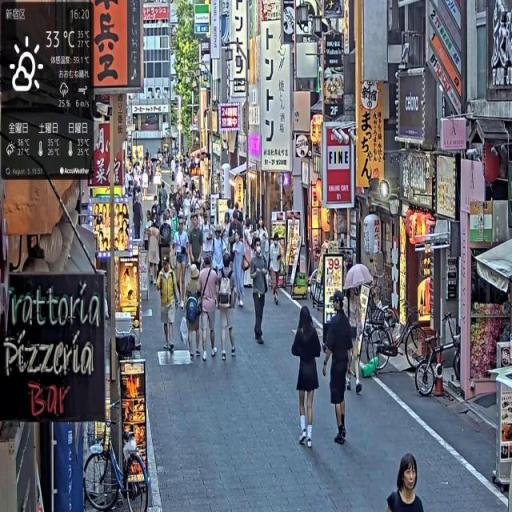person: (324, 291, 355, 447), (292, 307, 323, 450), (249, 232, 271, 350), (157, 252, 181, 360), (197, 252, 220, 364), (386, 451, 427, 512), (216, 258, 239, 363), (184, 262, 203, 363), (174, 216, 191, 307), (232, 230, 248, 310), (270, 232, 284, 307)
